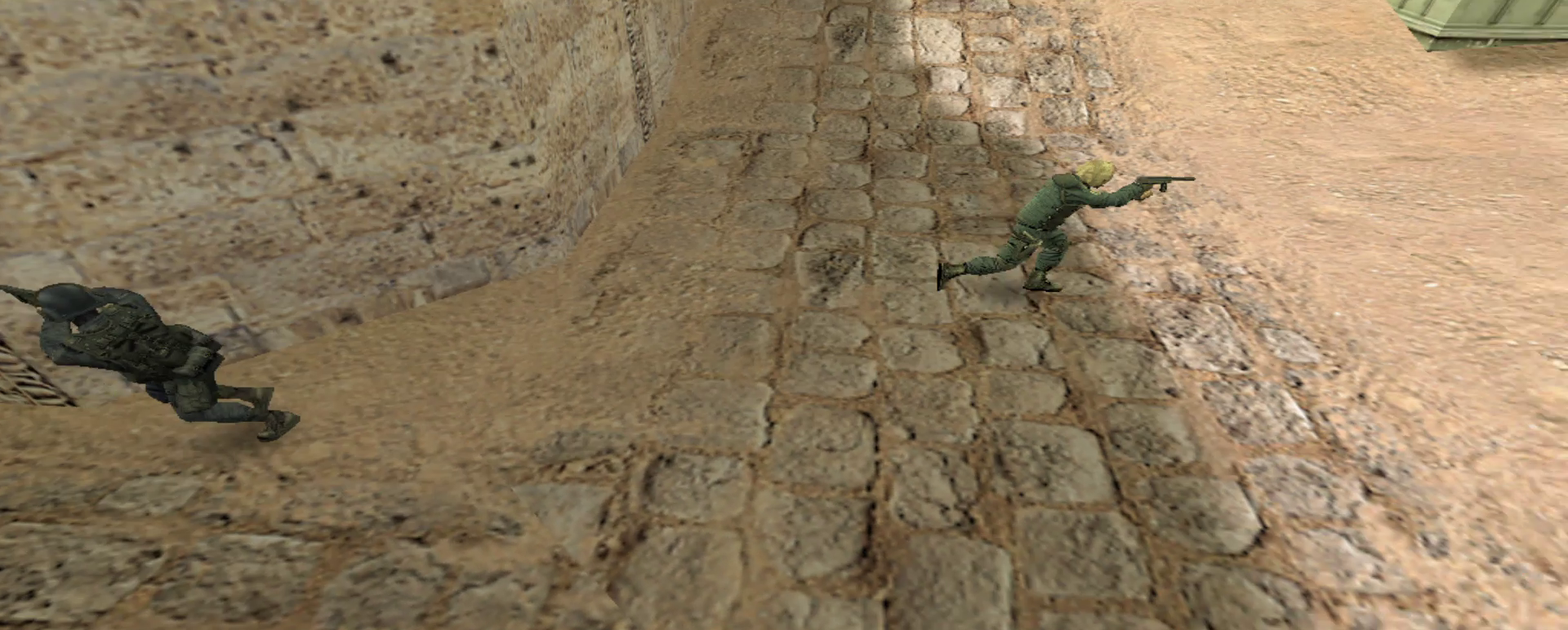counter: (37, 289, 304, 443), (982, 178, 1111, 296)
counter_head: (34, 283, 94, 318), (1077, 158, 1114, 187)
